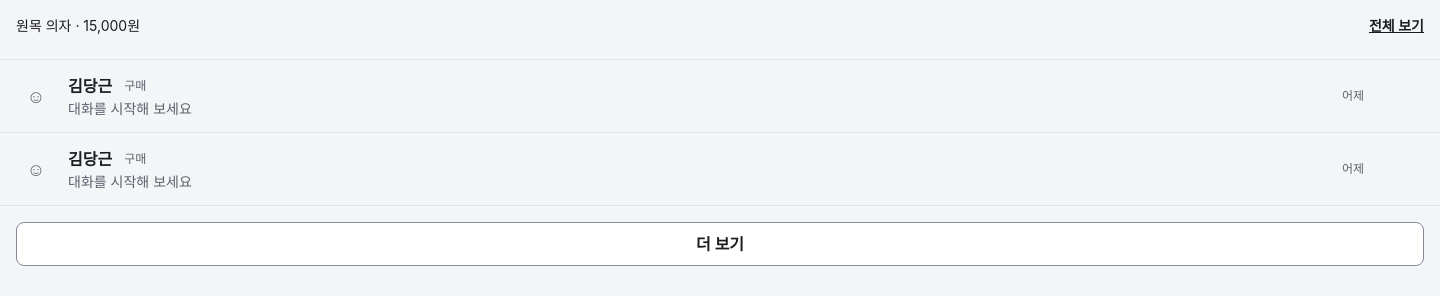
채팅 목록 › [AC-CL-07, 10] 상품으로 거르면 요약과 [전체 보기]가 있고, [더 보기]에서 겹쳐 온 방은 한 번만 그린다
Expected: the text "원목 의자 · 15,000원" is shown, left=16, top=16, right=140, bottom=34
Click the button "더 보기". click: (720, 244)
box: left=16, top=222, right=1424, bottom=266
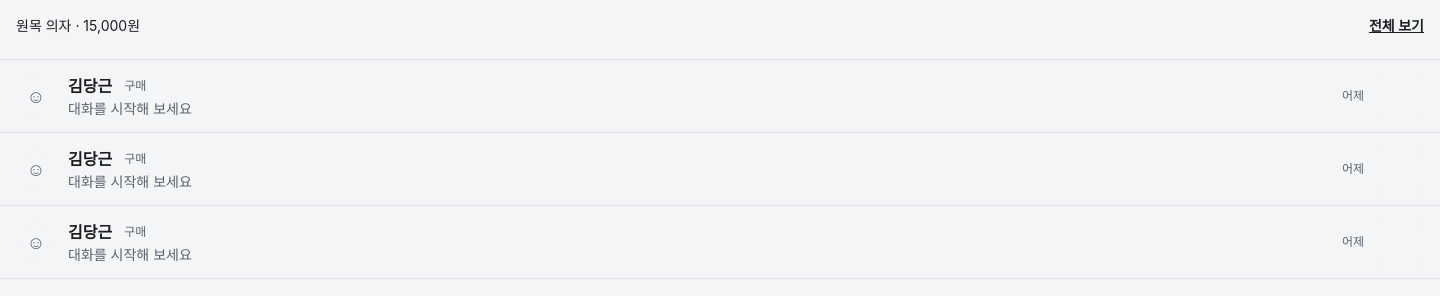
Now the button "더 보기" is gone
